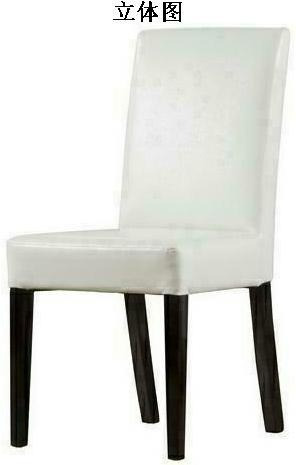obstacle: (7, 28, 288, 459)
